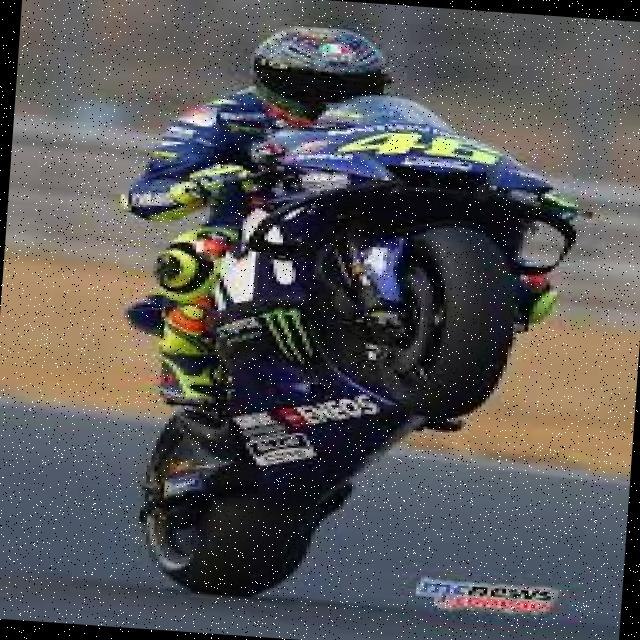Wheeling: (126, 0, 564, 623)
